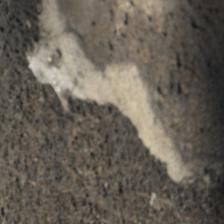Crack: (110, 59, 209, 187), (24, 5, 115, 109)
